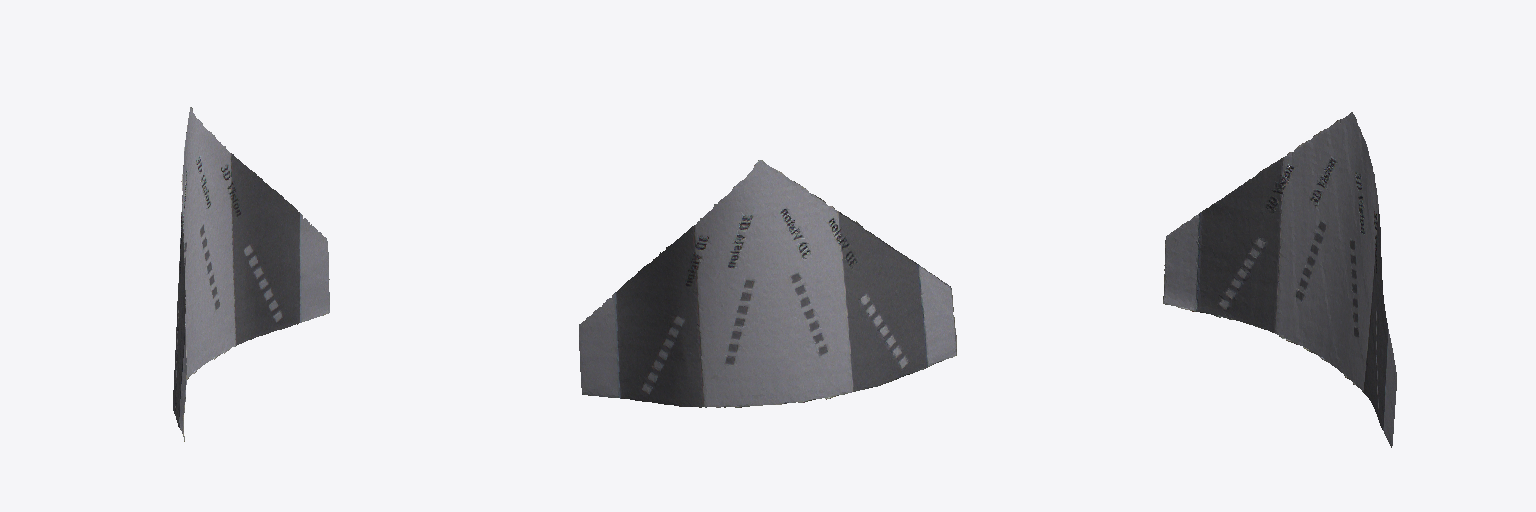
3 views of the same model, side by side, from view 1: azimuth 30°, elevation 25°; view 2: azimuth 150°, elevation 25°; view 3: azimuth 270°, elevation 25° (orthographic).
Bounding box in the file's own units: 220 × 208 × 170.
Materials: 1 (1 with a texture image).